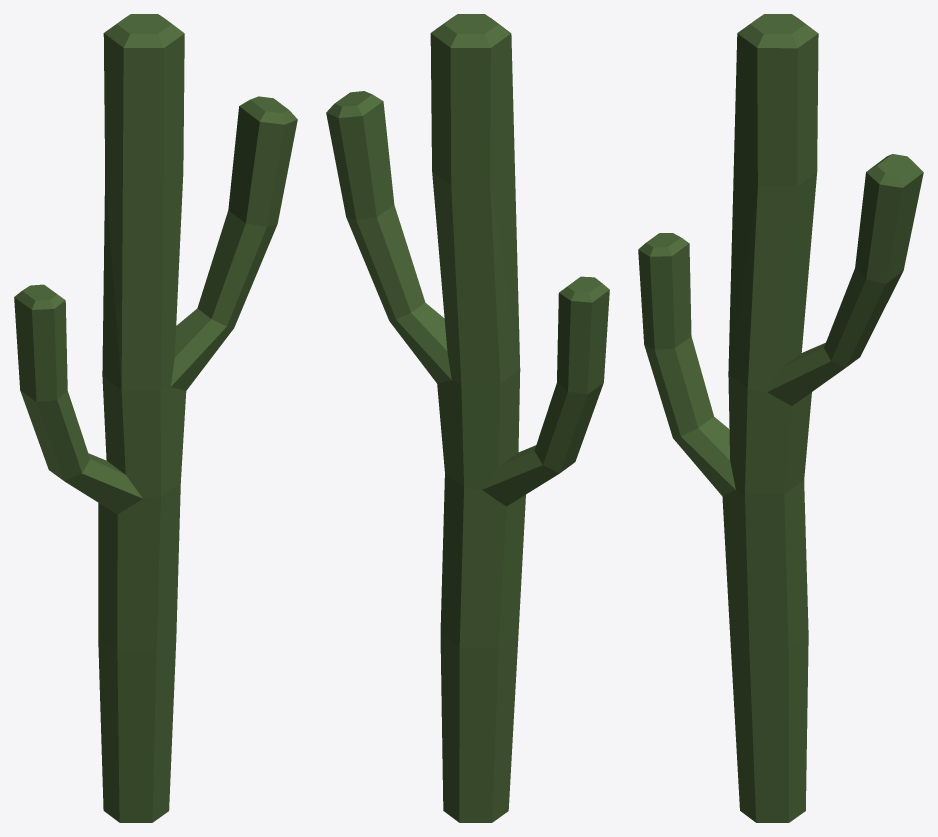
The model's file is SM_Envr_Nature_Plant_Desert_03.fbx.
The picture shows the model from 3 angles, left to right: view 1: azimuth 30°, elevation 25°; view 2: azimuth 150°, elevation 25°; view 3: azimuth 330°, elevation 25°; orthographic projection.
Parts seen in each view (by area): view 1: SM_Envr_Nature_Plant_Desert_03; view 2: SM_Envr_Nature_Plant_Desert_03; view 3: SM_Envr_Nature_Plant_Desert_03.
Boxes of the visible parts, <box> form: SM_Envr_Nature_Plant_Desert_03: <box>14,14,297,822</box>; SM_Envr_Nature_Plant_Desert_03: <box>326,14,609,822</box>; SM_Envr_Nature_Plant_Desert_03: <box>638,14,923,822</box>.
Size of the model in its own units: 119 by 338 by 35.04.
